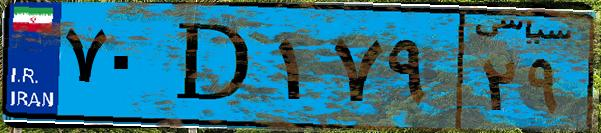0: (110, 28, 158, 98)
1: (270, 28, 330, 110)
2: (475, 38, 525, 113)
7: (330, 28, 385, 110), (57, 26, 110, 100)
9: (385, 28, 445, 110), (525, 38, 570, 115)
D: (158, 12, 270, 120)
